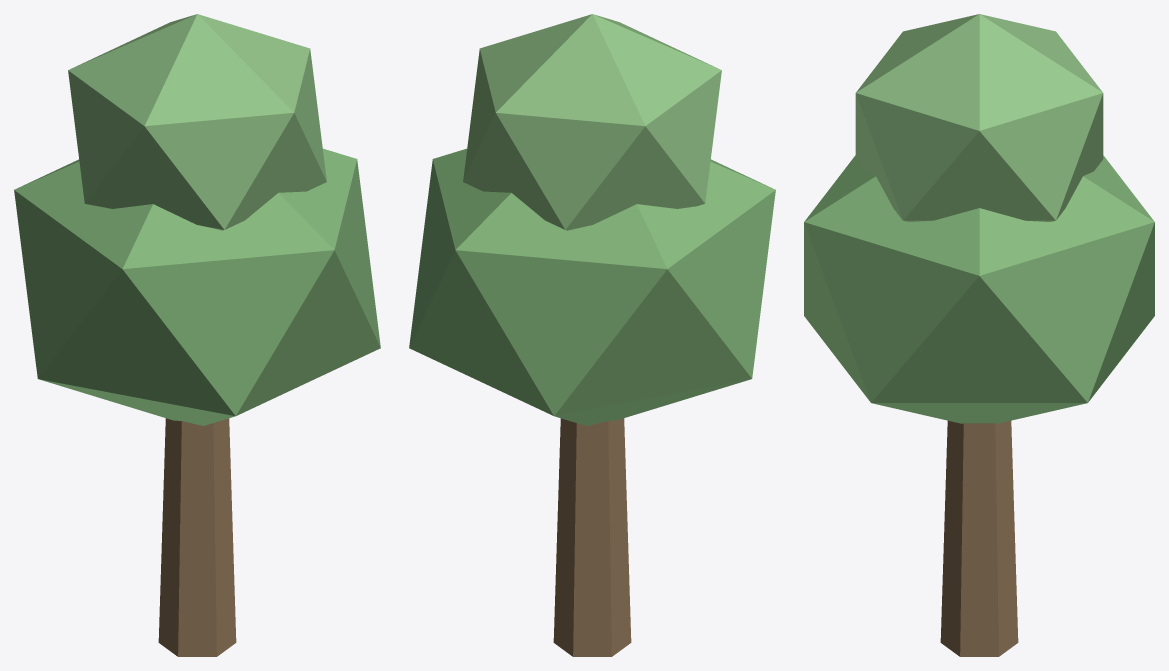
Rendered from arbre_feuillu.glb.
3 views of the same model, side by side, from view 1: azimuth 30°, elevation 25°; view 2: azimuth 150°, elevation 25°; view 3: azimuth 270°, elevation 25° (orthographic).
Parts seen in each view (by area): view 1: Icosphere, Icosphere.001, Cone; view 2: Icosphere, Icosphere.001, Cone; view 3: Icosphere, Icosphere.001, Cone.
Part boxes in pixels (<box>): Icosphere: <box>14,148,380,425</box>; Icosphere.001: <box>68,14,326,230</box>; Cone: <box>158,418,236,656</box>; Icosphere: <box>409,148,775,425</box>; Icosphere.001: <box>463,14,721,230</box>; Cone: <box>553,418,631,656</box>; Icosphere: <box>804,155,1154,423</box>; Icosphere.001: <box>855,14,1103,221</box>; Cone: <box>940,420,1018,656</box>.
Bounding box in the file's own units: 1.52 × 2.86 × 1.45.
